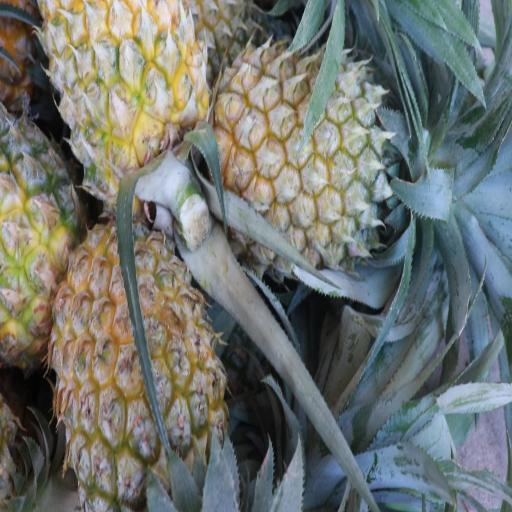------------------------------: (0, 97, 95, 378)
Pineapple - v8 v1: (44, 205, 240, 512), (35, 0, 215, 288), (208, 33, 414, 282)
